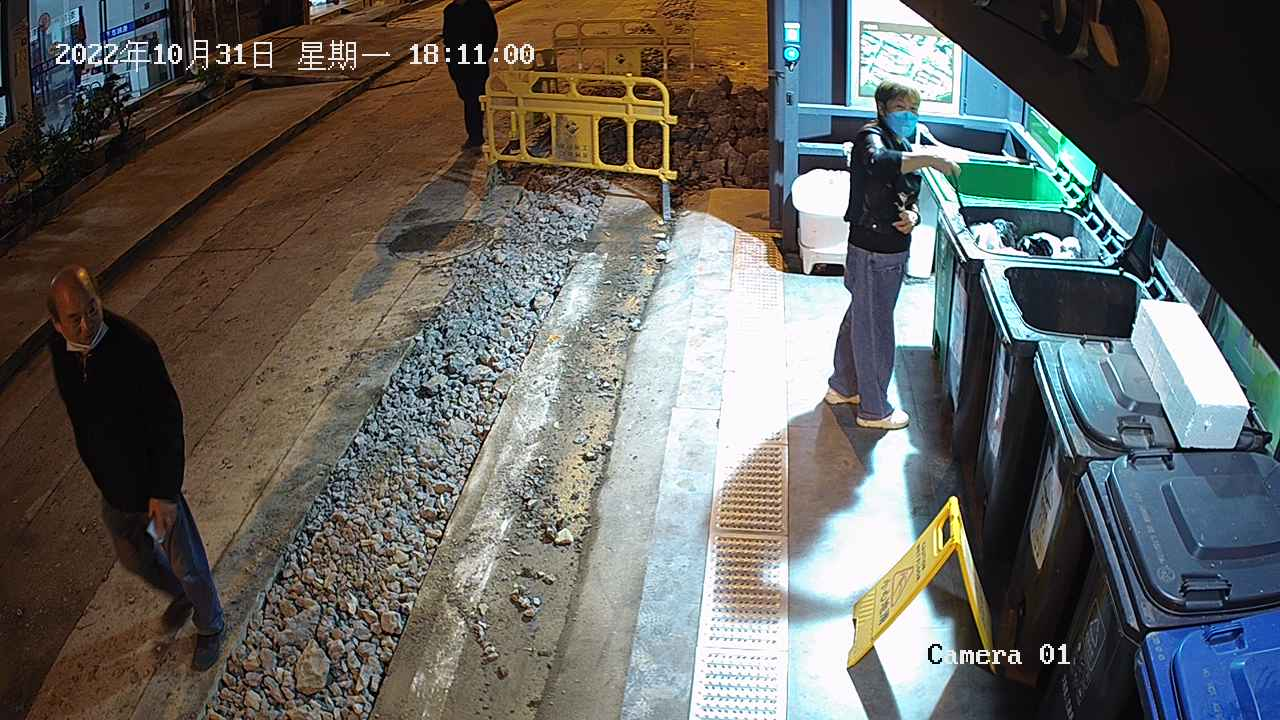person: (43, 261, 228, 675), (822, 76, 962, 430)
